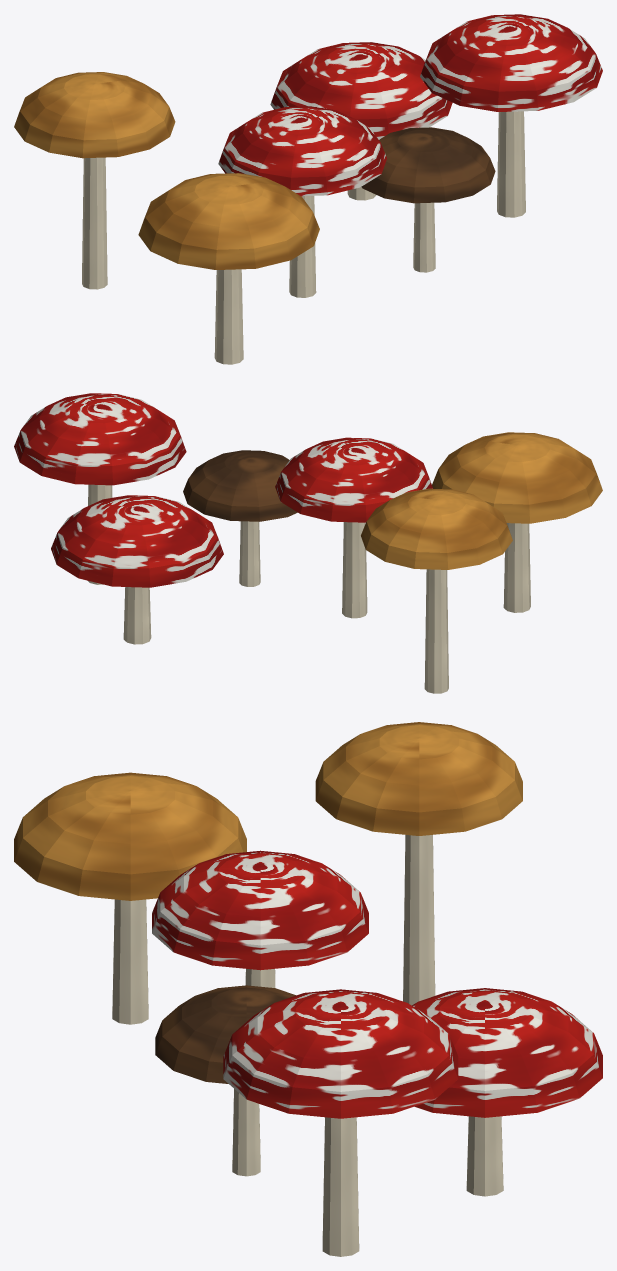
Rendered from ground_fungus_patch_v1.glb.
The picture shows the model from 3 angles, top to bottom: view 1: azimuth 30°, elevation 25°; view 2: azimuth 150°, elevation 25°; view 3: azimuth 270°, elevation 25°; orthographic projection. The views are drawn at different scales.
Visible parts, largest first — view 1: ground_fungus_patch_v1; view 2: ground_fungus_patch_v1; view 3: ground_fungus_patch_v1.
Boxes of the visible parts, x1,y1,x2,y2 form: ground_fungus_patch_v1: (14, 14, 602, 364); ground_fungus_patch_v1: (14, 393, 602, 693); ground_fungus_patch_v1: (14, 722, 602, 1256).
Bounding box in the file's own units: 0.2517 × 0.0897 × 0.1823.
4 materials, 4 textured.
